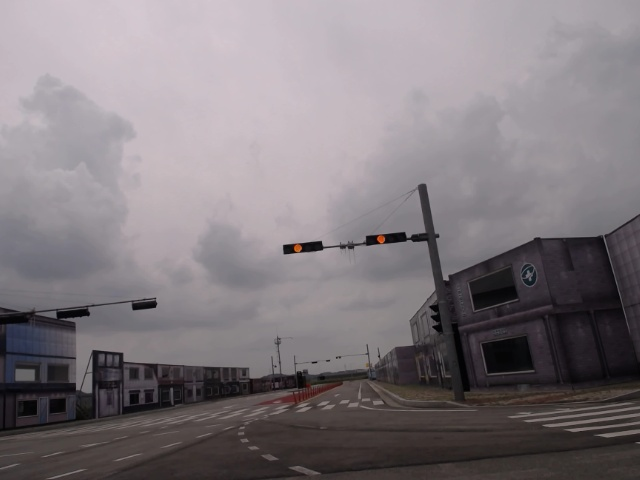orange_4: (364, 232, 409, 246), (282, 242, 325, 254)
